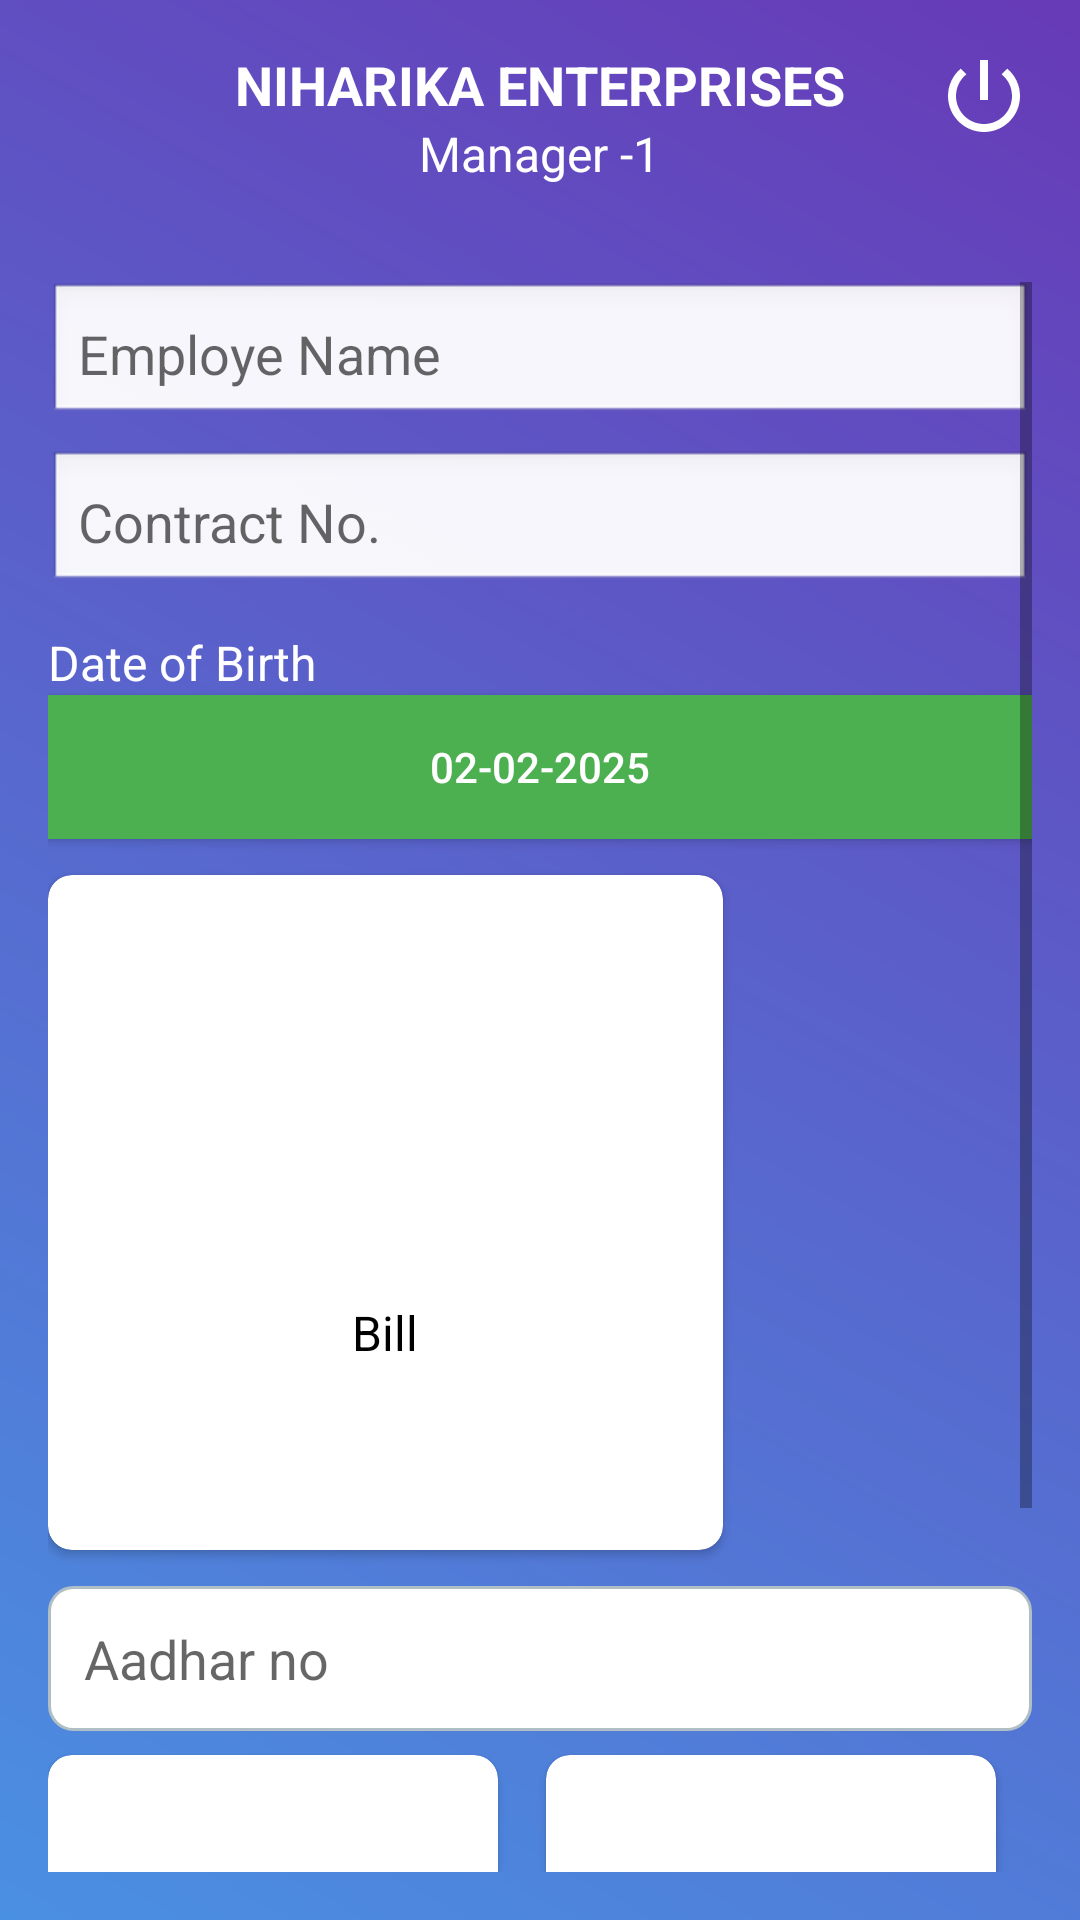

Where to tap for icons on this 1080w x 1920h app screen, as (x,y):
power: (984,96)
